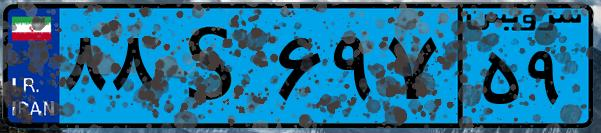5: (475, 38, 525, 113)
6: (270, 28, 330, 110)
7: (385, 28, 445, 110)
8: (57, 26, 110, 100), (110, 28, 158, 98)
9: (330, 28, 385, 110), (525, 38, 570, 115)
S: (158, 12, 270, 120)
